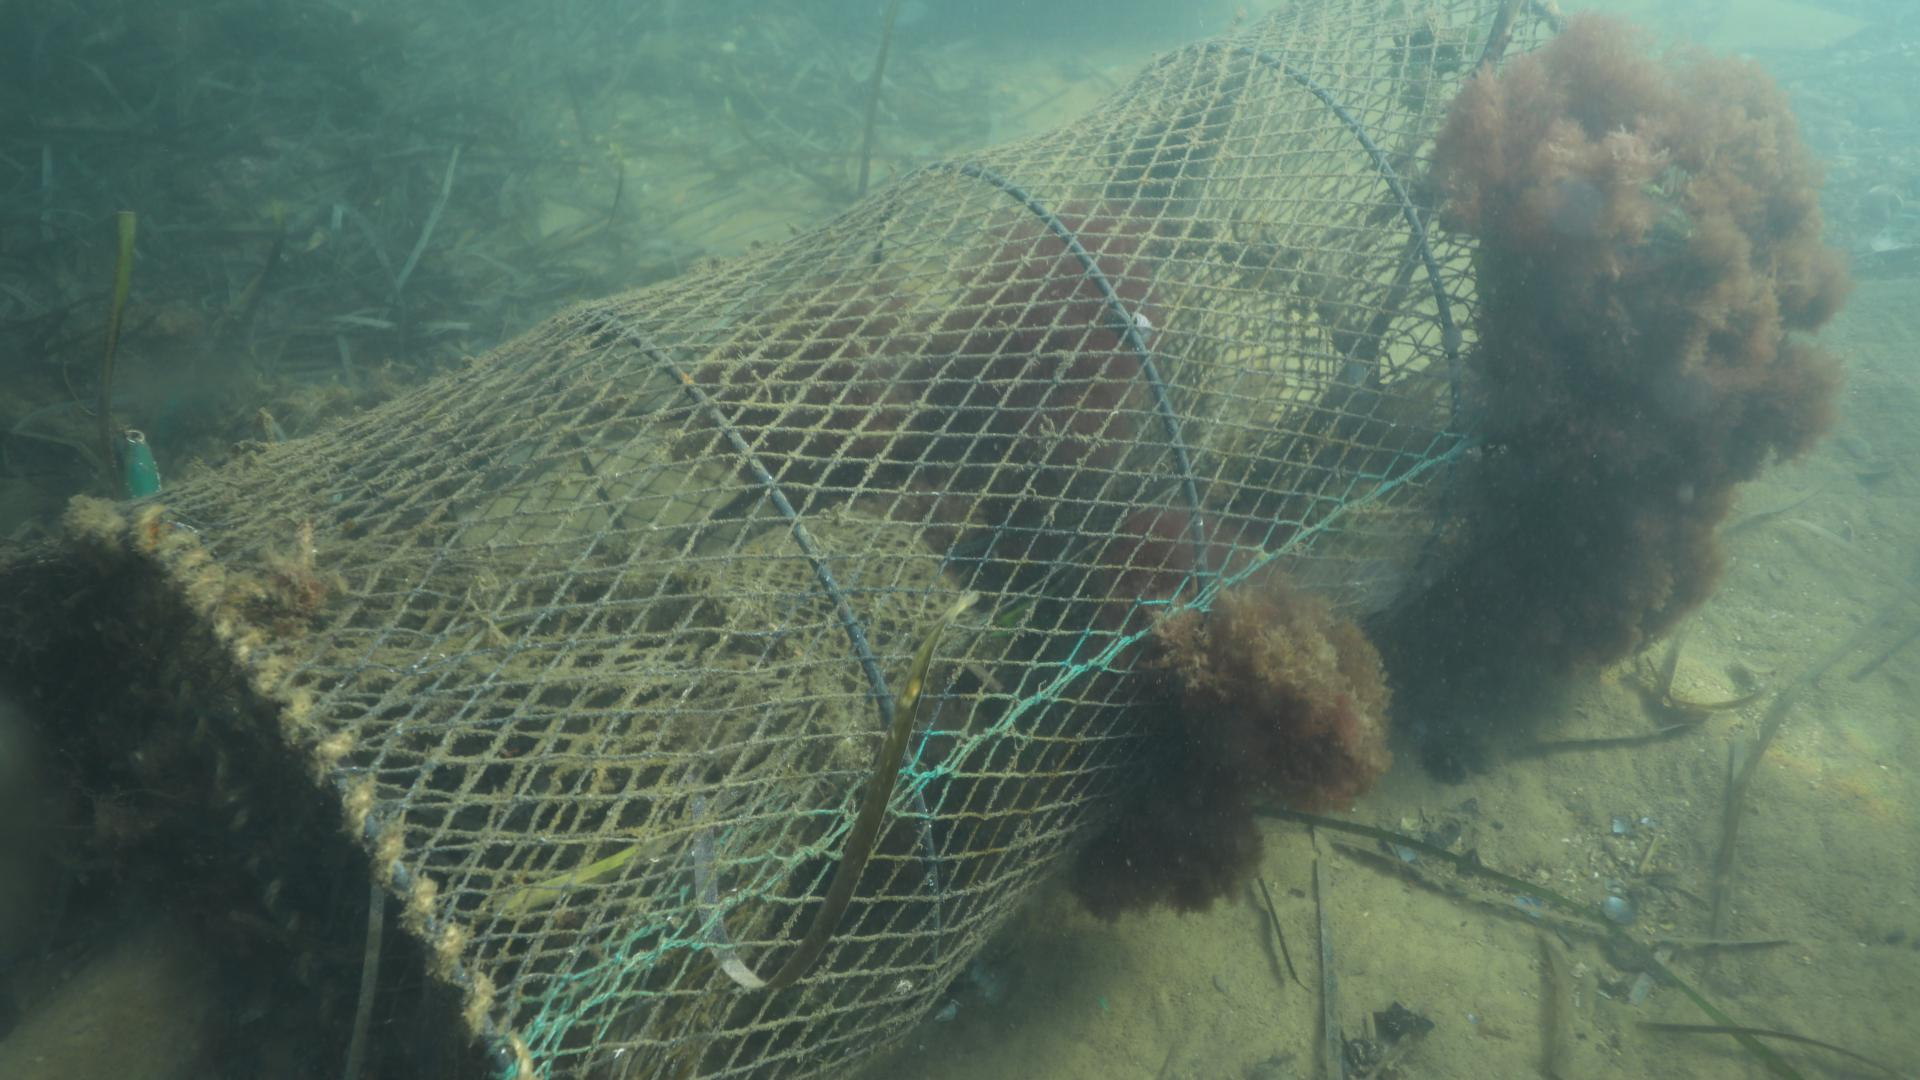spring fish trap: (70, 0, 1571, 1080)
